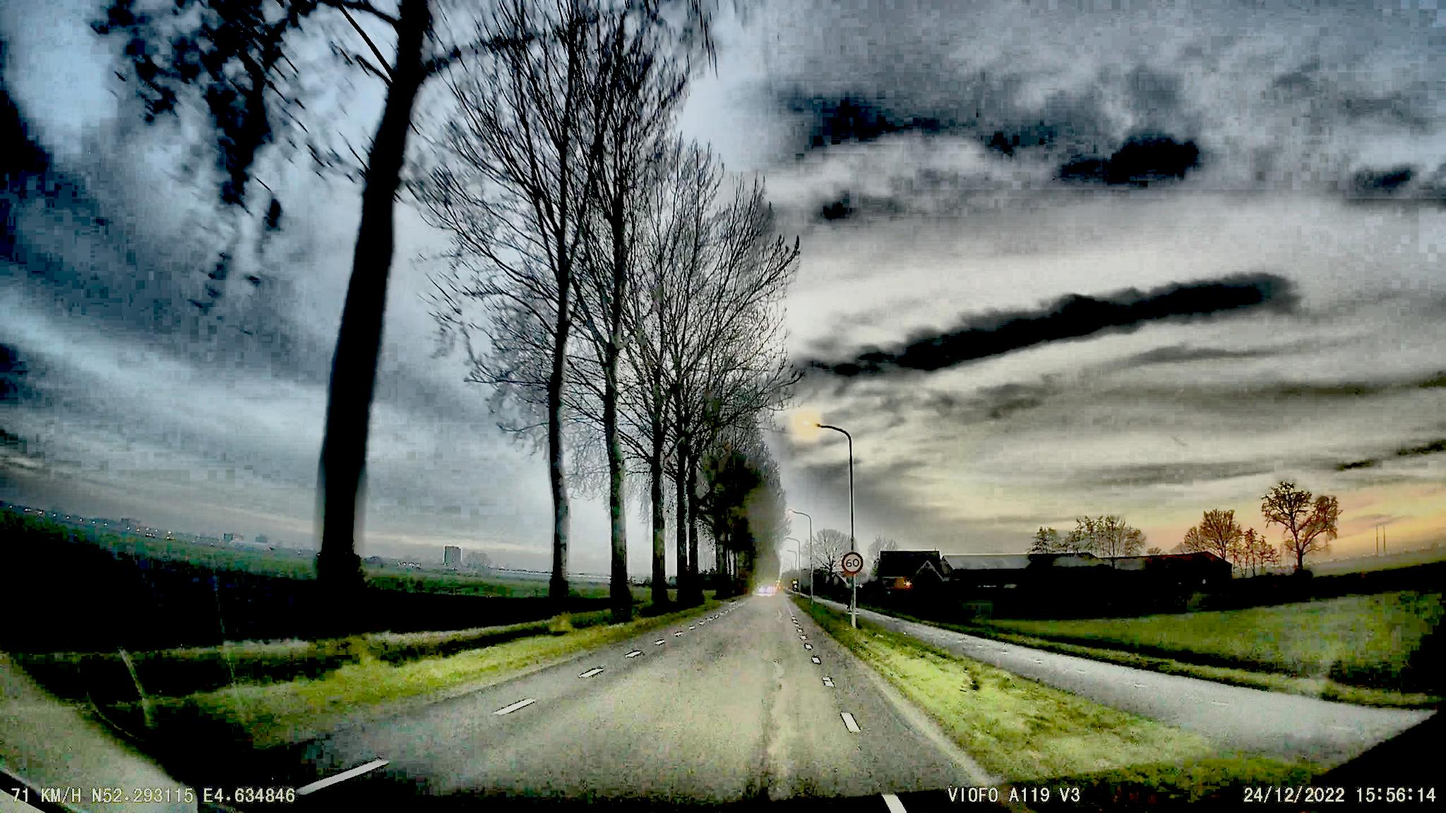Roads: (223, 597, 951, 813)
